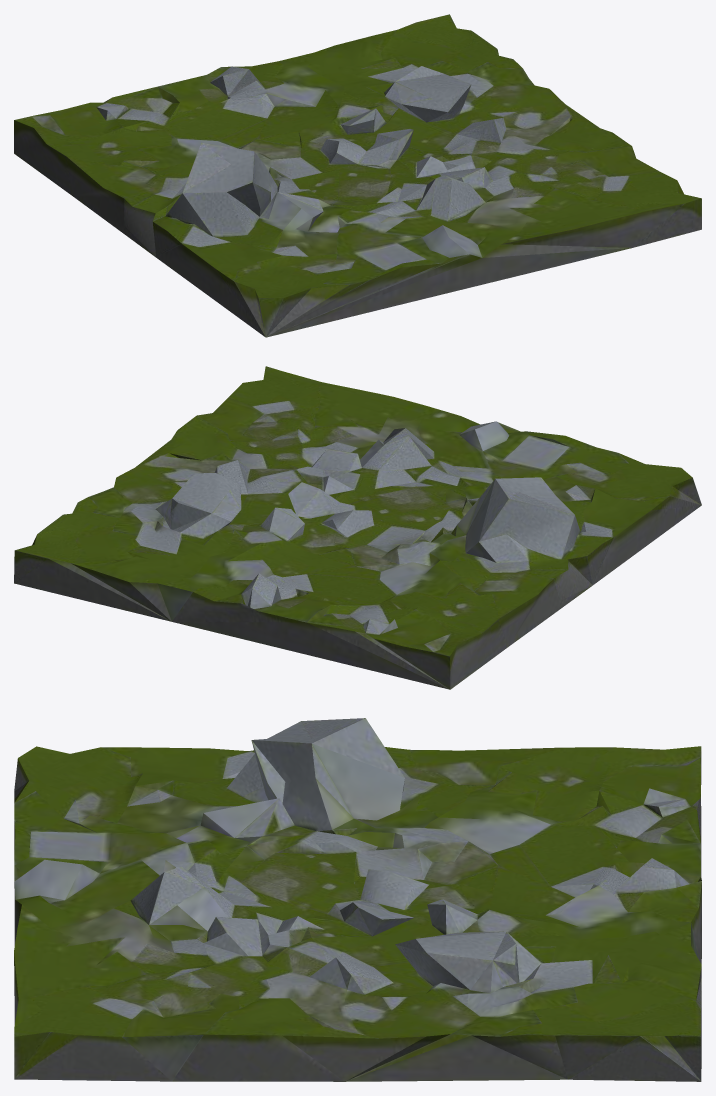
Rendered from terrain.glb.
The picture shows the model from 3 angles, top to bottom: view 1: azimuth 30°, elevation 25°; view 2: azimuth 150°, elevation 25°; view 3: azimuth 270°, elevation 25°; orthographic projection. The views are drawn at different scales.
Bounding box in the file's own units: 1.9 × 0.3547 × 1.9.
Materials: 1 (1 with a texture image).
